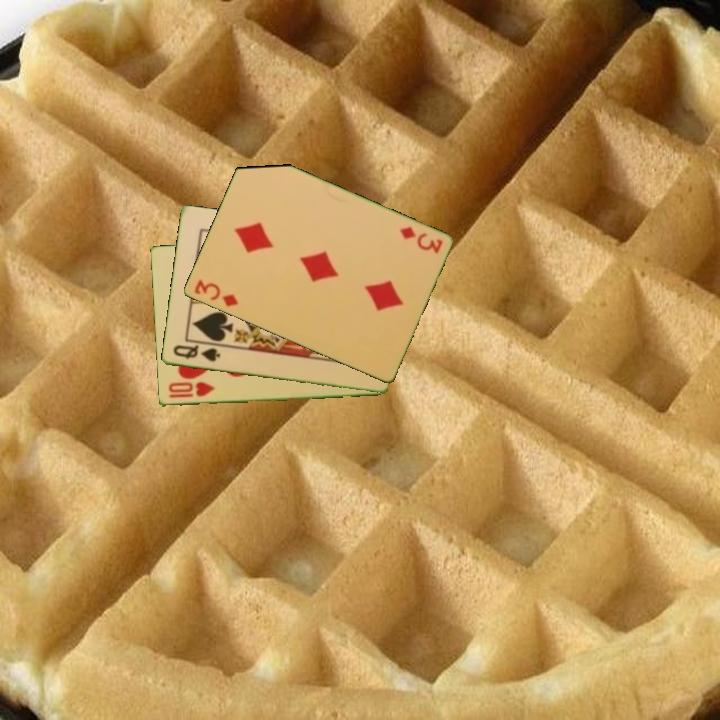10h: (165, 379, 217, 401)
3d: (190, 276, 241, 310), (395, 223, 446, 257)
Qs: (169, 342, 223, 365)
